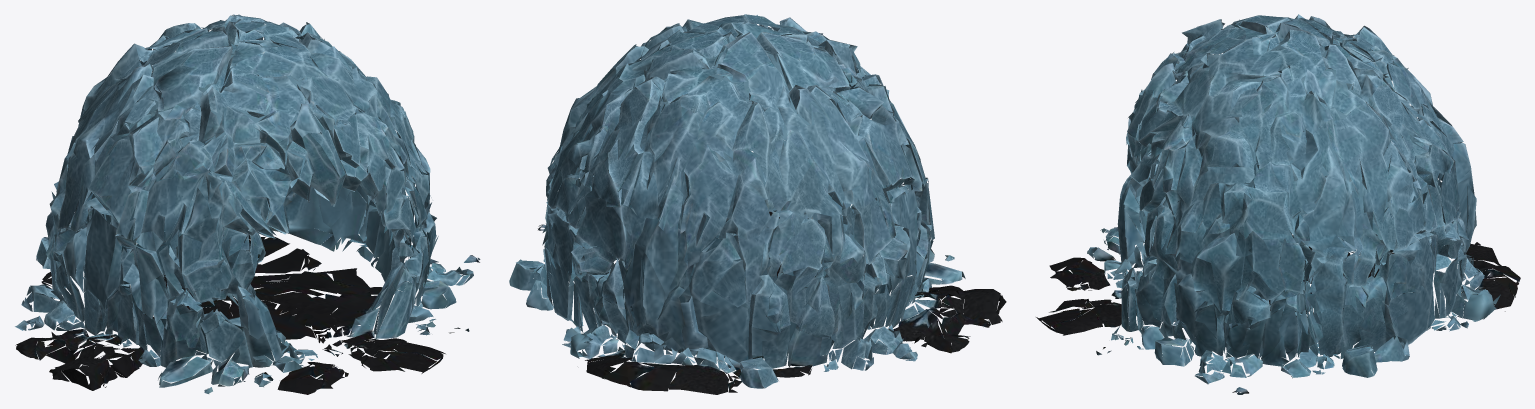
Rendered from ice_shell_pieces.glb.
3 renders of one model, left to right at view 1: azimuth 30°, elevation 25°; view 2: azimuth 150°, elevation 25°; view 3: azimuth 270°, elevation 25°, orthographic.
Visible parts, largest first — view 1: chunk_11, chunk_6, chunk_1, chunk_9, chunk_10, chunk_3, chunk_0, chunk_2, chunk_4, chunk_8, chunk_13, chunk_7 (+2 smaller); view 2: chunk_8, chunk_14, chunk_15, chunk_1, chunk_5, chunk_3, chunk_6, chunk_11, chunk_13, chunk_0; view 3: chunk_3, chunk_9, chunk_15, chunk_5, chunk_14, chunk_10, chunk_11, chunk_2, chunk_1, chunk_13, chunk_8, chunk_0.
Boxes of the visible parts, x1,y1,x2,y2 form: chunk_11: [35, 256, 384, 394]; chunk_6: [23, 119, 236, 358]; chunk_1: [60, 36, 236, 279]; chunk_9: [363, 111, 480, 373]; chunk_10: [266, 98, 391, 206]; chunk_3: [222, 16, 406, 157]; chunk_0: [79, 287, 375, 362]; chunk_2: [163, 172, 412, 295]; chunk_4: [170, 169, 263, 277]; chunk_8: [15, 136, 137, 354]; chunk_13: [217, 35, 295, 168]; chunk_7: [210, 144, 370, 359]; chunk_8: [633, 219, 966, 394]; chunk_14: [628, 36, 820, 242]; chunk_15: [509, 155, 668, 387]; chunk_1: [751, 33, 907, 281]; chunk_5: [553, 94, 702, 304]; chunk_3: [553, 14, 779, 186]; chunk_6: [853, 45, 969, 345]; chunk_11: [862, 177, 1006, 338]; chunk_13: [750, 23, 838, 65]; chunk_0: [715, 217, 918, 328]; chunk_3: [1183, 22, 1374, 301]; chunk_9: [1036, 141, 1293, 394]; chunk_15: [1307, 168, 1518, 377]; chunk_5: [1311, 103, 1471, 281]; chunk_14: [1287, 18, 1459, 136]; chunk_10: [1127, 57, 1185, 189]; chunk_11: [1049, 152, 1191, 305]; chunk_2: [1243, 246, 1403, 378]; chunk_1: [1181, 14, 1353, 131]; chunk_13: [1164, 22, 1292, 79]; chunk_8: [1334, 112, 1520, 281]; chunk_0: [1083, 170, 1293, 330].
Bounding box in the file's own units: 1.93 × 1.1 × 1.85.
Materials: 1 (1 with a texture image).
